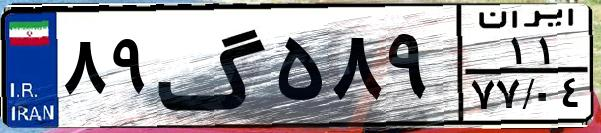0: (535, 70, 560, 125)
1: (537, 27, 568, 80), (508, 27, 537, 80)
4: (560, 70, 590, 125)
5: (270, 28, 330, 110)
7: (470, 70, 495, 125), (495, 70, 520, 125)
8: (330, 28, 385, 110), (57, 26, 110, 100)
9: (385, 28, 445, 110), (110, 28, 156, 98)
گ: (156, 12, 270, 120)
